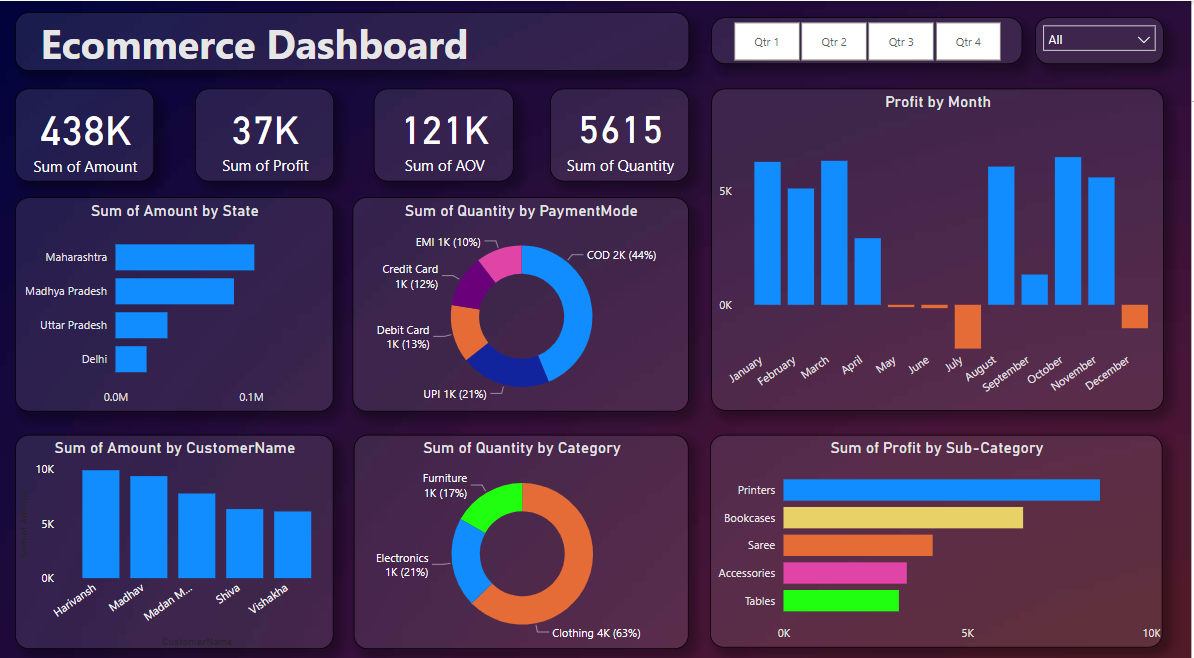

The page's visual inventory and layout, read from the dashboard file:
{"tool":"powerbi","page":{"name":"Page 1","canvas":[1280,720],"ordinal":0},"visuals":[{"type":"clusteredColumnChart","title":"Profit by Month","fields":{"Category":["Orders.Order Date.Variation.Date Hierarchy.Month"],"Y":["Sum(Details.Profit)"]},"box":[764.4,94.5,486.3,346.6],"z":0},{"type":"barChart","fields":{"Category":["Details.Sub-Category"],"Y":["Sum(Details.Profit)"]},"box":[763,465.8,486.3,228.8],"z":1000},{"type":"donutChart","fields":{"Category":["Details.Category"],"Y":["Sum(Details.Quantity)"]},"box":[380.8,465.8,360.3,230.1],"z":2000},{"type":"donutChart","fields":{"Y":["Sum(Details.Quantity)"],"Category":["Details.PaymentMode"]},"box":[379.5,211,361.6,230.1],"z":3000},{"type":"card","fields":{"Values":["Sum(Details.Amount)"]},"box":[16.4,94.5,149.3,100],"z":4000},{"type":"card","fields":{"Values":["Sum(Details.Profit)"]},"box":[209.6,94.5,149.3,100],"z":5000},{"type":"card","fields":{"Values":["Sum(Details.Quantity)"]},"box":[591.8,94.5,149.3,100],"z":6000},{"type":"card","fields":{"Values":["Sum(Details.AOV)"]},"box":[401.4,94.5,150.7,100],"z":7000},{"type":"barChart","fields":{"Category":["Orders.State"],"Y":["Sum(Details.Amount)"]},"box":[16.4,211,342.5,230.1],"z":8000},{"type":"columnChart","fields":{"Category":["Orders.CustomerName"],"Y":["Sum(Details.Amount)"]},"box":[16.4,465.8,342.5,230.1],"z":9000},{"type":"textbox","box":[16.4,12.3,724.7,63],"z":10000},{"type":"slicer","fields":{"Values":["Orders.Order Date.Variation.Date Hierarchy.Quarter"]},"box":[764.4,17.8,334.2,50.7],"z":11000},{"type":"slicer","fields":{"Values":["Orders.State"]},"box":[1112.3,17.8,138.4,50.7],"z":12000}]}

Visuals, with their boxes in screenshot pixels (x1, y1, x2, y2), scaled from the page's 1280x720 canvas onto the 1194x658 screenshot:
"Profit by Month" clusteredColumnChart: [left=713, top=86, right=1167, bottom=403]
barChart - Details.Sub-Category x Sum(Details.Profit): [left=712, top=426, right=1165, bottom=635]
donutChart - Details.Category x Sum(Details.Quantity): [left=355, top=426, right=691, bottom=636]
donutChart - Sum(Details.Quantity) x Details.PaymentMode: [left=354, top=193, right=691, bottom=403]
card - Sum(Details.Amount): [left=15, top=86, right=155, bottom=178]
card - Sum(Details.Profit): [left=196, top=86, right=335, bottom=178]
card - Sum(Details.Quantity): [left=552, top=86, right=691, bottom=178]
card - Sum(Details.AOV): [left=374, top=86, right=515, bottom=178]
barChart - Orders.State x Sum(Details.Amount): [left=15, top=193, right=335, bottom=403]
columnChart - Orders.CustomerName x Sum(Details.Amount): [left=15, top=426, right=335, bottom=636]
textbox: [left=15, top=11, right=691, bottom=69]
slicer - Orders.Order Date.Variation.Date Hierarchy.Quarter: [left=713, top=16, right=1025, bottom=63]
slicer - Orders.State: [left=1038, top=16, right=1167, bottom=63]
